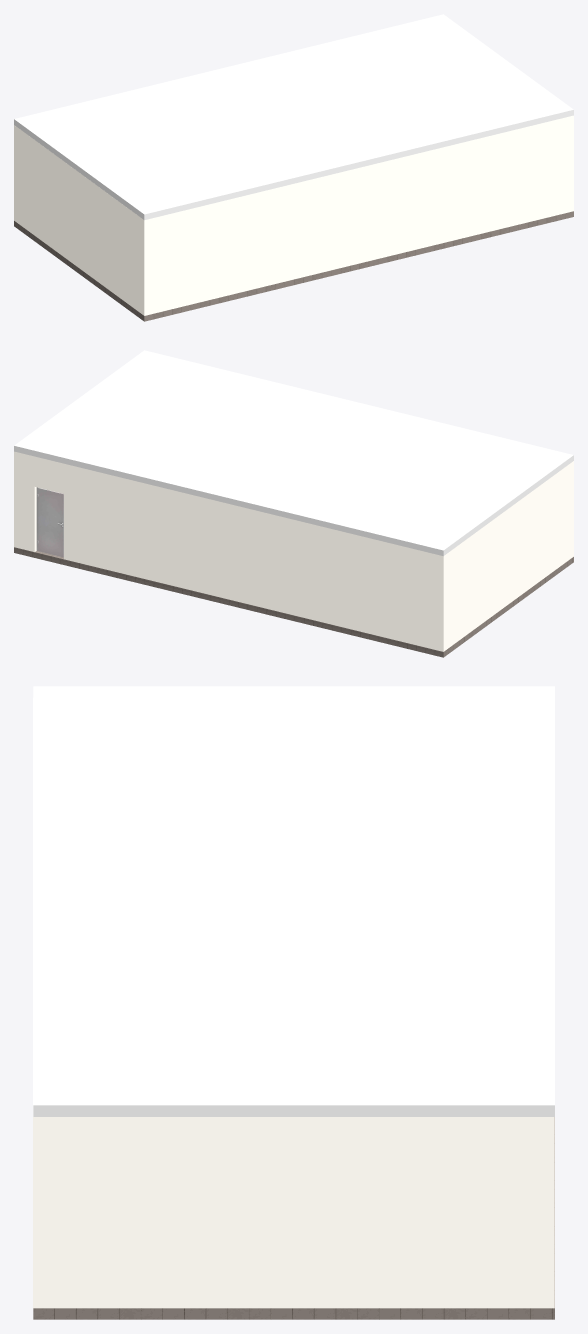
Rendered from Static.glb.
3 views of the same model, one above another, from view 1: azimuth 30°, elevation 25°; view 2: azimuth 150°, elevation 25°; view 3: azimuth 270°, elevation 25° (orthographic). The views are drawn at different scales.
Parts seen in each view (by area): view 1: Qure_AI; view 2: Qure_AI; view 3: Qure_AI.
Boxes of the visible parts, bbox=[...] form: Qure_AI: bbox=[14, 14, 573, 321]; Qure_AI: bbox=[14, 350, 573, 657]; Qure_AI: bbox=[33, 686, 554, 1319].
Size of the model in its own units: 15.69 by 3.74 by 8.25.
Materials: 56 (23 with a texture image).
